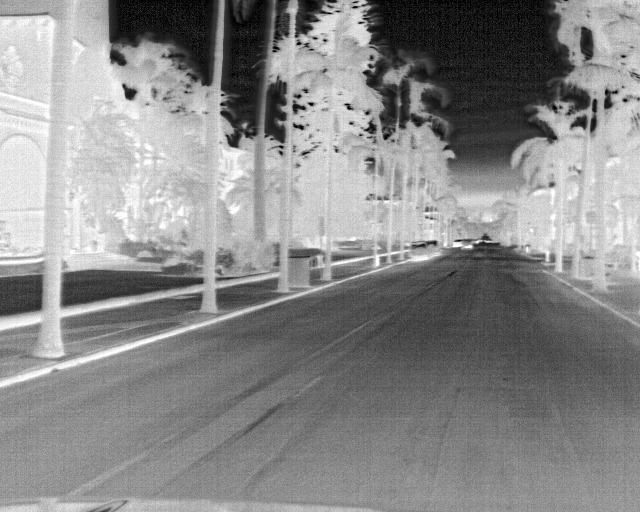car: (408, 240, 432, 261), (425, 240, 443, 256), (451, 238, 465, 250), (461, 238, 475, 250)
